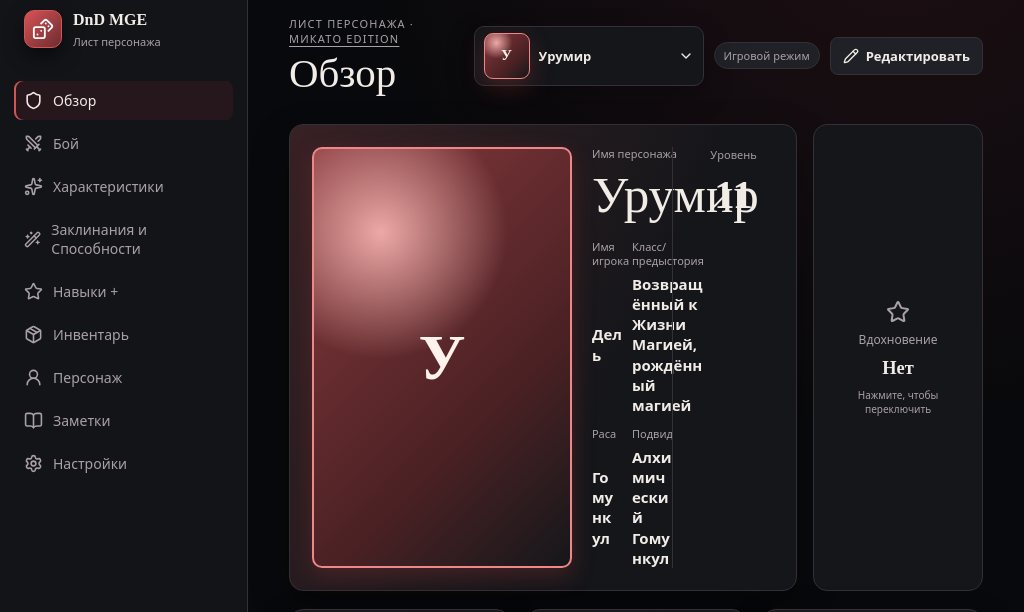
игровые представления листа › восстанавливает сохранённые эффекты при загрузке страницы
The image size is (1024, 612).
Step 1. Click the button "Бой" → (124, 144), box [14,124,233,163]
(page scrolled)
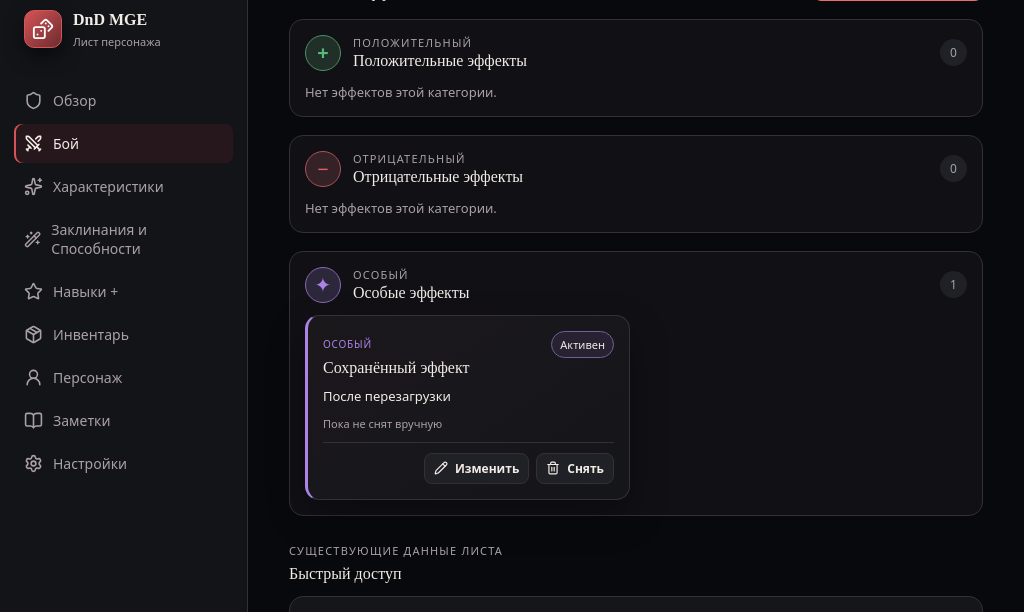
Now the heading "Особые эффекты" is shown, box [353,284,470,300]
Now the heading "Сохранённый эффект" is shown, box [323,358,470,377]
